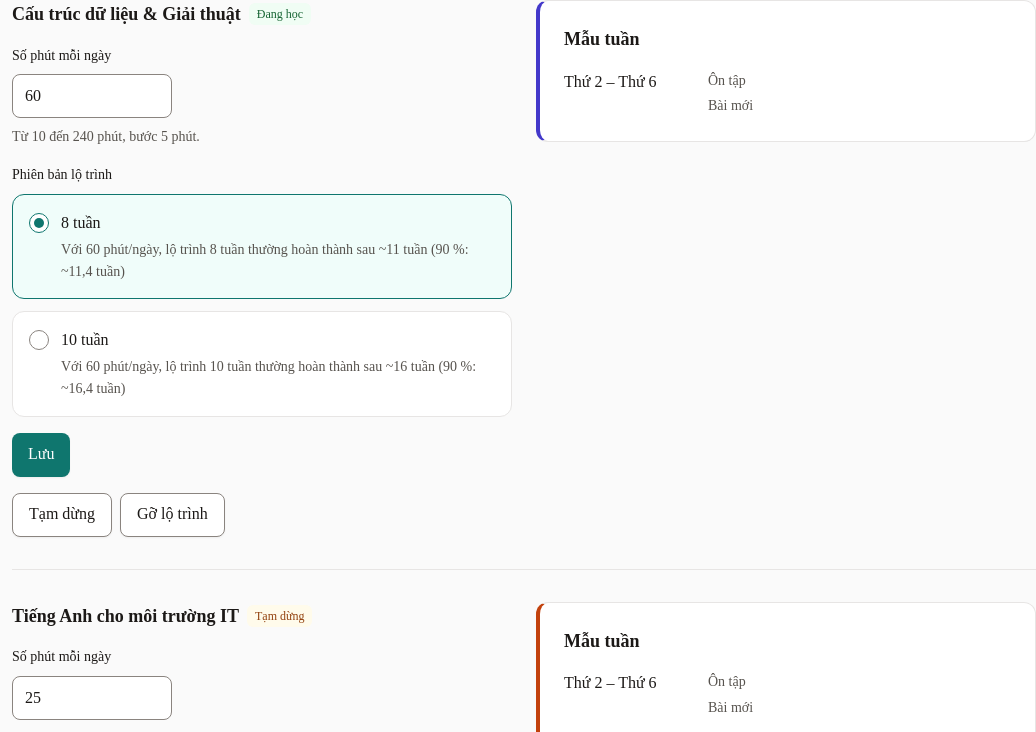
it: TrackSettings — pause, resume, remove › shows a failed status change in the track, not only as a toast
The width and height of the screenshot is (1036, 732).
Click the button "Tạm dừng": (62,515) [12,493,112,537]
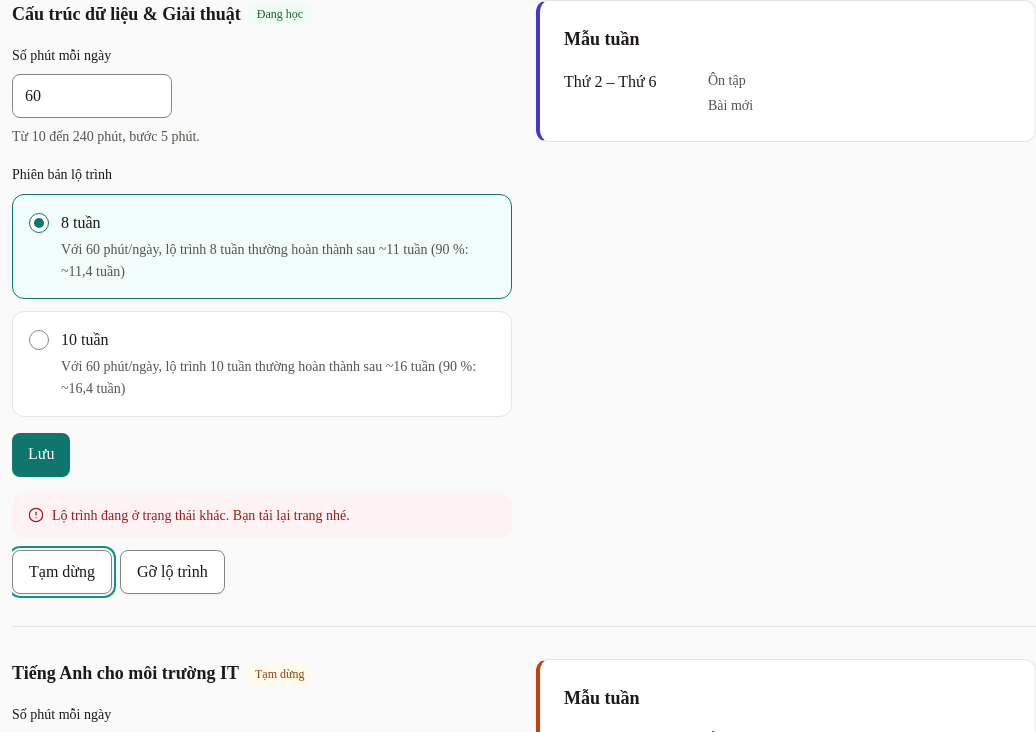
Check: the text "Lộ trình đang ở trạng thái khác. Bạn tải lại trang nhé." is shown, box [52,505,350,526]
